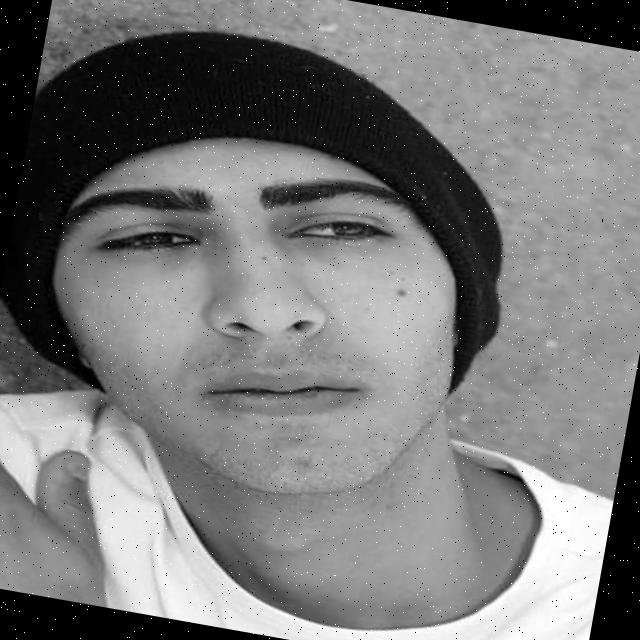Sadness: (26, 105, 473, 520)
